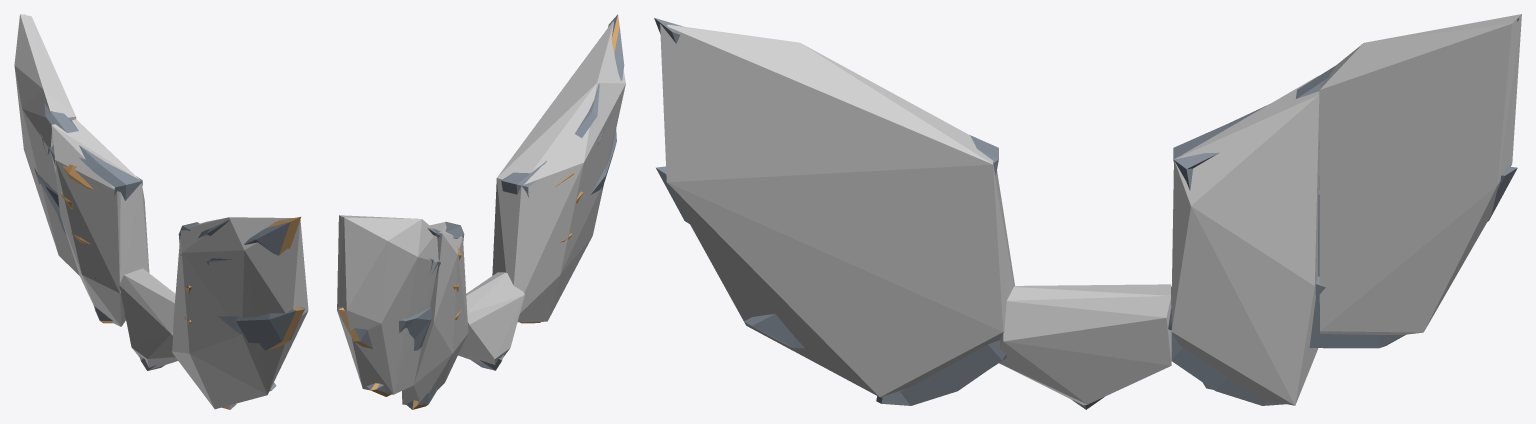
Rendered from SM_Prop_Wings_01.fbx.
The picture shows the model from 3 angles, left to right: view 1: azimuth 30°, elevation 25°; view 2: azimuth 150°, elevation 25°; view 3: azimuth 270°, elevation 25°; orthographic projection. The views are drawn at different scales.
Visible parts, largest first — view 1: SM_Prop_Wings_01_ConvexHulls, SM_Prop_Wings_01; view 2: SM_Prop_Wings_01_ConvexHulls, SM_Prop_Wings_01; view 3: SM_Prop_Wings_01_ConvexHulls, SM_Prop_Wings_01.
Part boxes in pixels (x1=…): SM_Prop_Wings_01_ConvexHulls: x1=14, y1=14, x2=308, y2=409; SM_Prop_Wings_01: x1=24, y1=14, x2=305, y2=409; SM_Prop_Wings_01_ConvexHulls: x1=337, y1=21, x2=625, y2=404; SM_Prop_Wings_01: x1=337, y1=14, x2=624, y2=409; SM_Prop_Wings_01_ConvexHulls: x1=660, y1=14, x2=1521, y2=405; SM_Prop_Wings_01: x1=654, y1=18, x2=1519, y2=409.
Bounding box in the file's own units: 27.85 × 231 × 116.
Materials: 2 (1 with a texture image).
